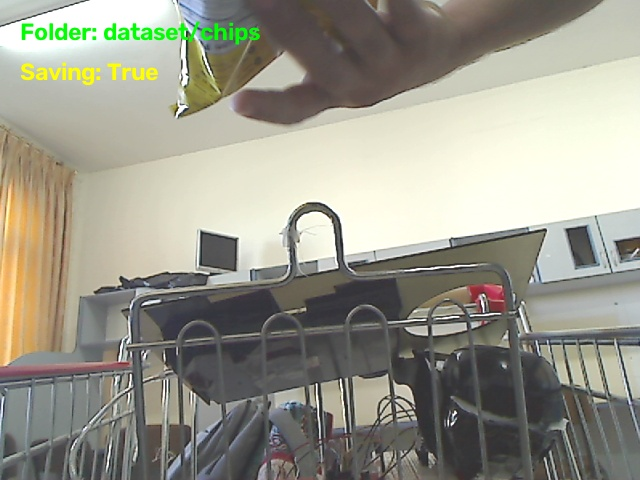chips: (174, 0, 281, 117)
